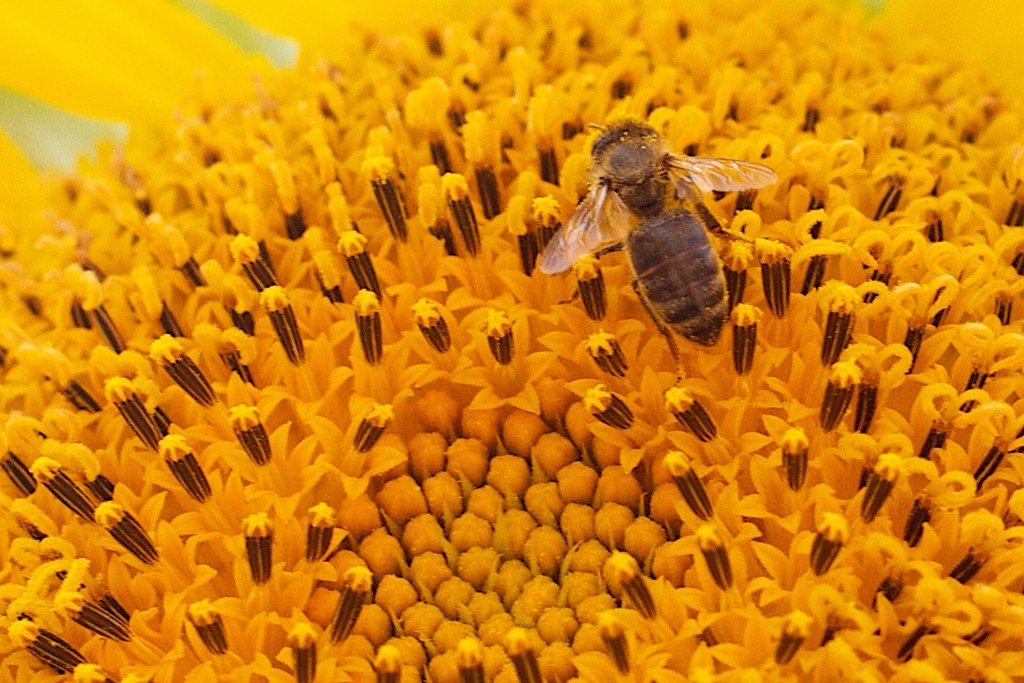bee: (538, 109, 776, 376)
insect: (75, 16, 990, 683)
